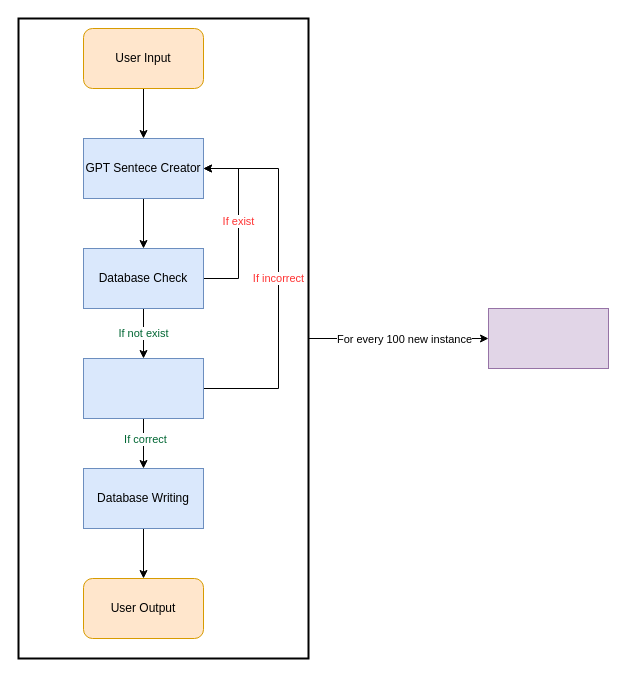
The diagram is 626 pixels wide and 676 high, and some of its shapes have lost their labels. Each missing label, with the centre of its shape:
"GPT Idiom Classfier" belongs at (143,388).
"Human Control" belongs at (548,338).
